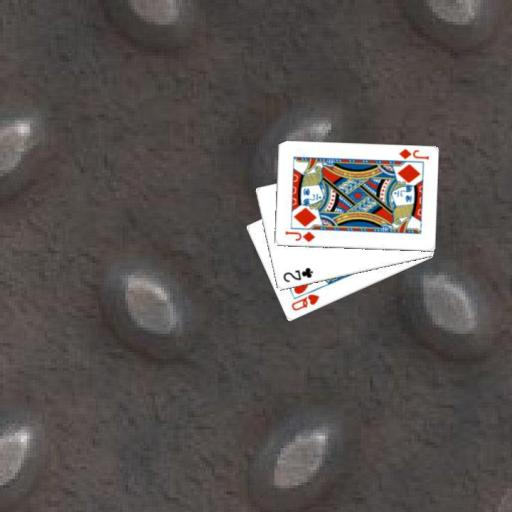2C: (280, 265, 315, 284)
JD: (283, 227, 317, 244), (396, 146, 431, 161)
QH: (288, 291, 321, 313)
